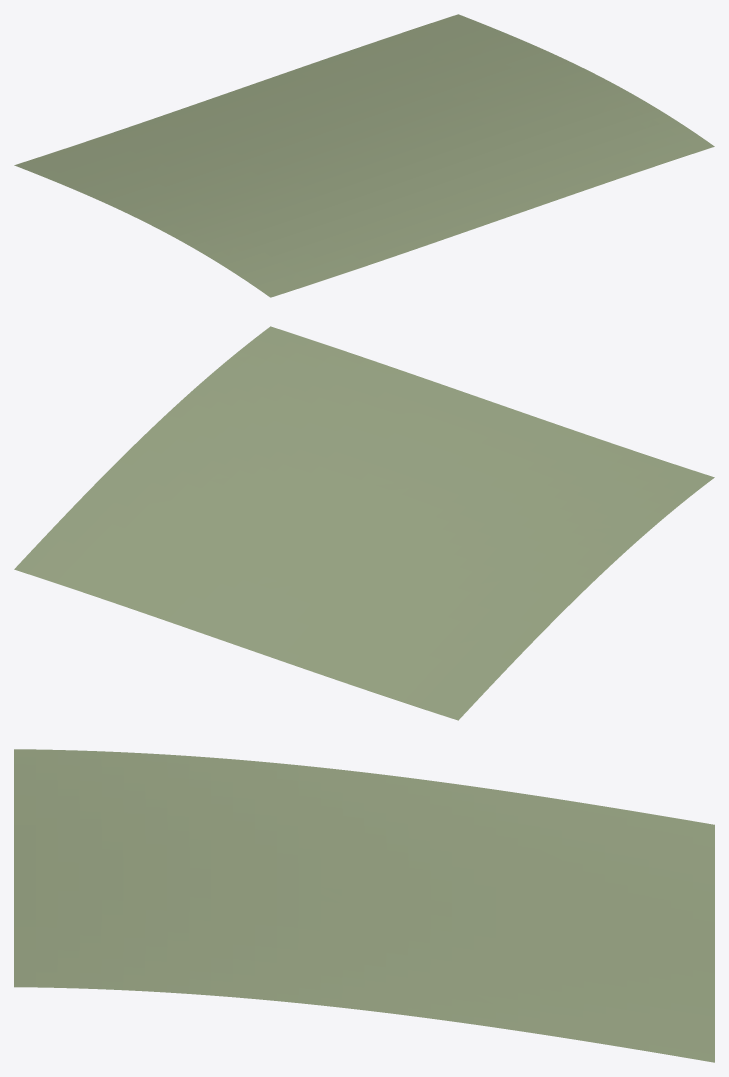
File: valley-5-14.glb
3 renders of one model, top to bottom at view 1: azimuth 30°, elevation 25°; view 2: azimuth 150°, elevation 25°; view 3: azimuth 270°, elevation 25°, orthographic. The views are drawn at different scales.
Parts seen in each view (by area): view 1: valley-5-14; view 2: valley-5-14; view 3: valley-5-14.
Part boxes in pixels (box(x1,y1,x2,y2)): valley-5-14: box(14, 14, 714, 297); valley-5-14: box(14, 326, 714, 720); valley-5-14: box(14, 749, 714, 1062).
Size of the model in its own units: 256 by 53.96 by 256.
